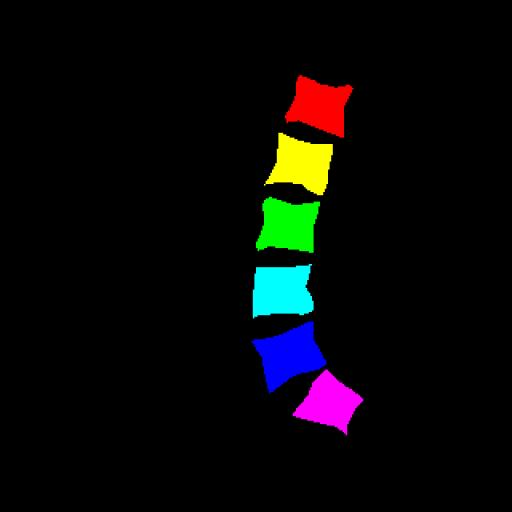L1: (287, 76, 353, 138)
L2: (265, 133, 333, 194)
L3: (258, 199, 320, 252)
L4: (255, 264, 314, 318)
L5: (252, 322, 326, 392)
S1: (293, 370, 363, 434)
